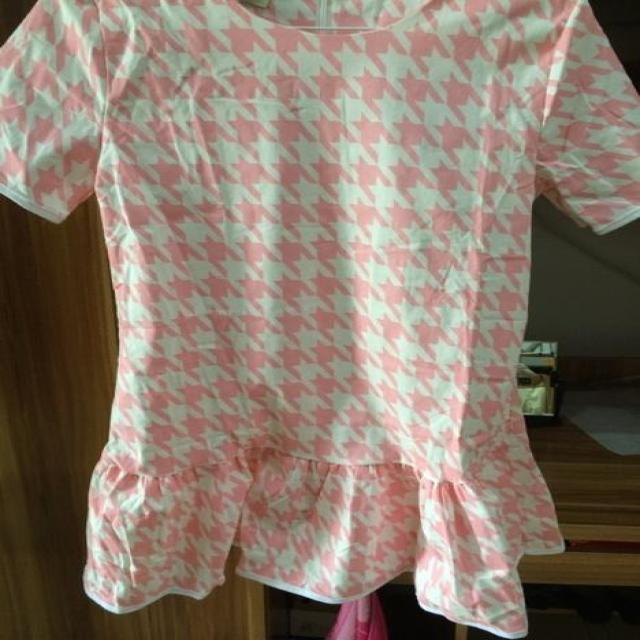short sleeve dress: (0, 1, 637, 596)
